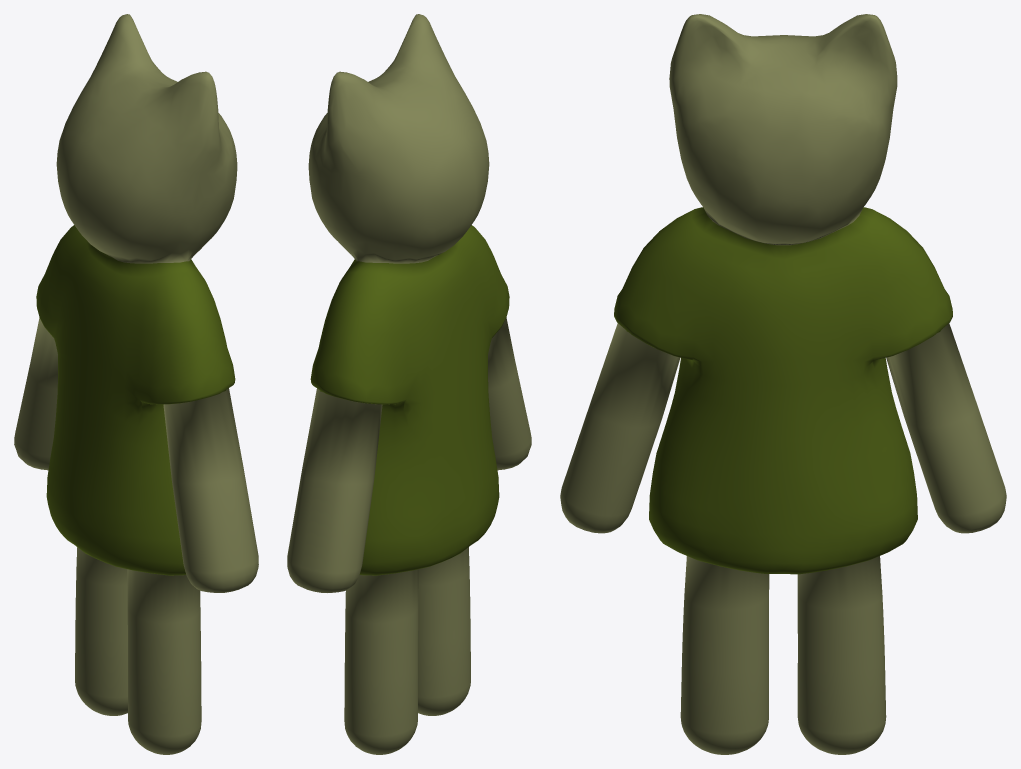
File: enemy 101.fbx
The picture shows the model from 3 angles, left to right: view 1: azimuth 30°, elevation 25°; view 2: azimuth 150°, elevation 25°; view 3: azimuth 270°, elevation 25°; orthographic projection. The views are drawn at different scales.
Visible parts, largest first — view 1: kut misvormde kat; view 2: kut misvormde kat; view 3: kut misvormde kat.
Part boxes in pixels (x1=…): kut misvormde kat: x1=14, y1=14, x2=258, y2=754; kut misvormde kat: x1=287, y1=14, x2=531, y2=754; kut misvormde kat: x1=560, y1=14, x2=1006, y2=754.
Size of the model in its own units: 189 by 804 by 433.
